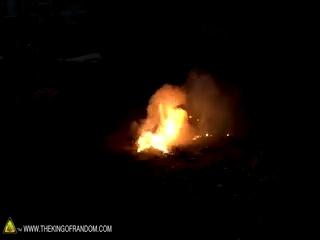Fire: (136, 100, 193, 154)
